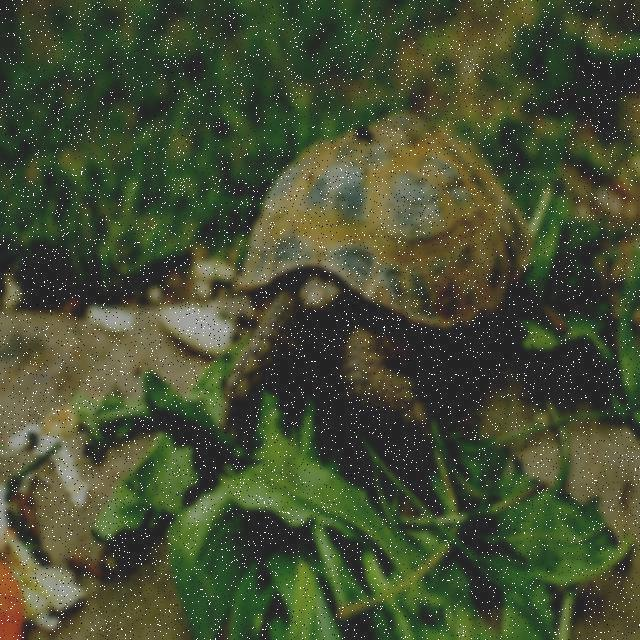tortoise: (190, 102, 530, 356)
